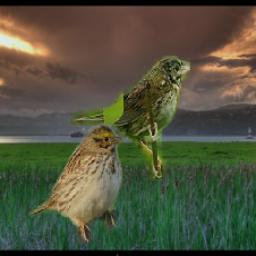Sparrow: (70, 56, 190, 180), (31, 122, 127, 244)
